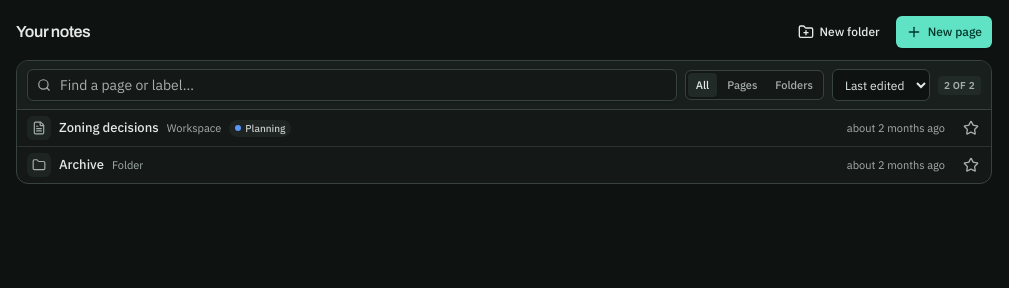
Test: Notes home › filters by labels and page type, and recovers from no results
Type "planning" into the field named "Filter pages by title or label" at (352, 85), box [27,69,677,101]
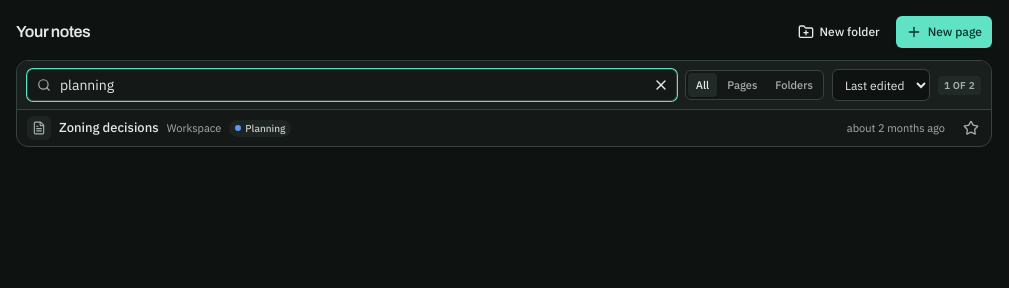
Check: the number of links is 1, box [23,110,949,146]
Click the button "Folders" at (794, 85), box [767,73,821,97]
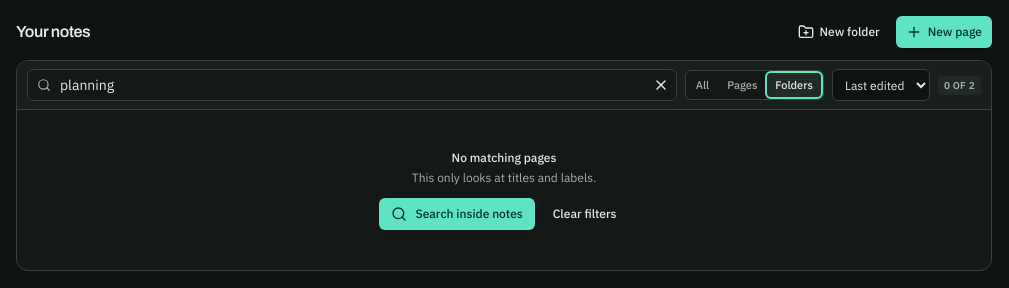
Check: the text "No matching pages" is shown, box [452,150,556,165]
Click the button "Clear filters" at (585, 214), box [541,198,629,230]
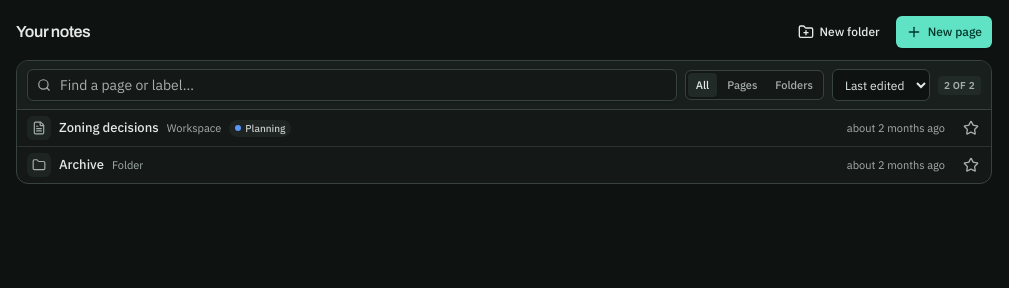
Check: the number of links is 2, box [23,110,949,146]; [23,147,949,183]
